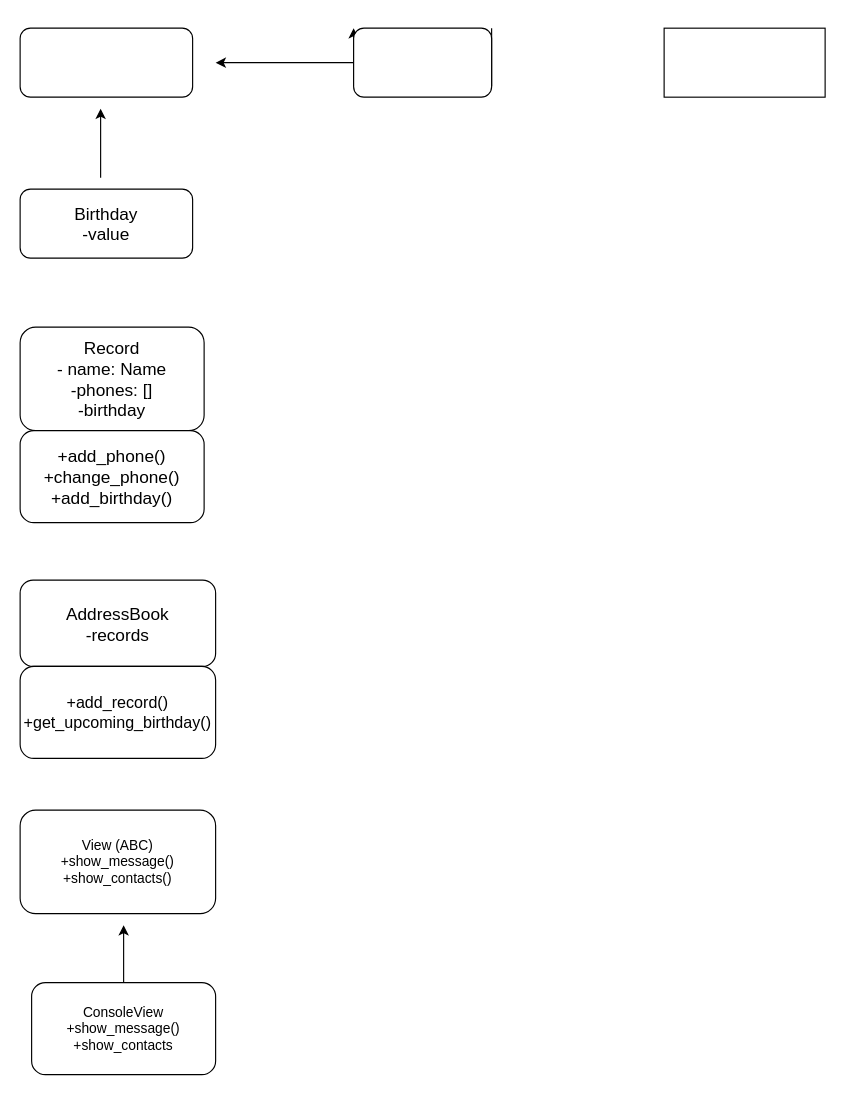
Image size: 845x1095. Some labels were removed from this diagram. Here are the shapes that lost their labels. From the top down, the box of each, then its label:
(19, 27, 193, 97): Field -value
(352, 27, 492, 97): NAME
(663, 27, 825, 97): Phone -value
